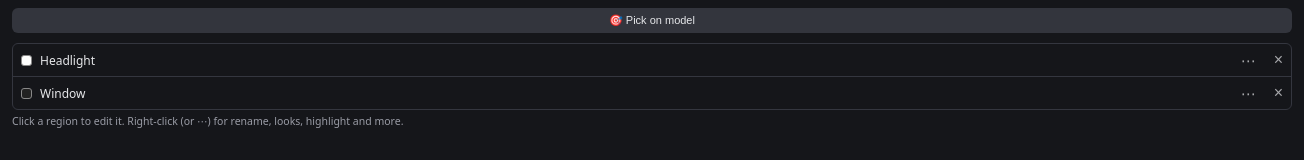
Test: Paint regions list › renaming through the row saves one change and keeps the look
Double-click the text "Window" at (63, 93), box [40,84,86,102]
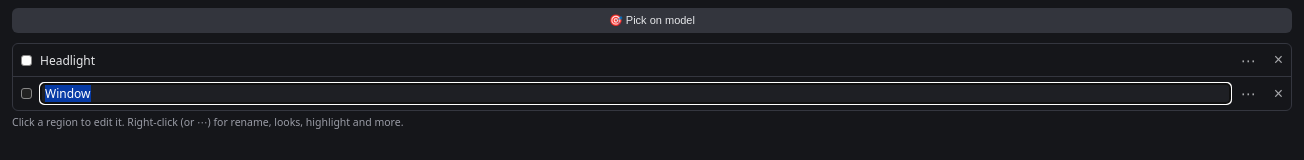
Replace the text in the field named "Name" with "Windscreen" at (635, 94), box [40,83,1231,104]
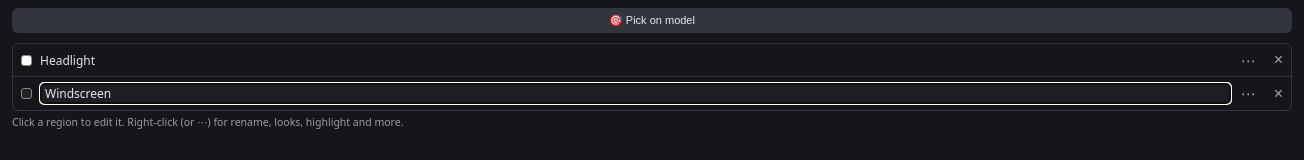
Press Enter in the field named "Name", box [40,83,1231,104]
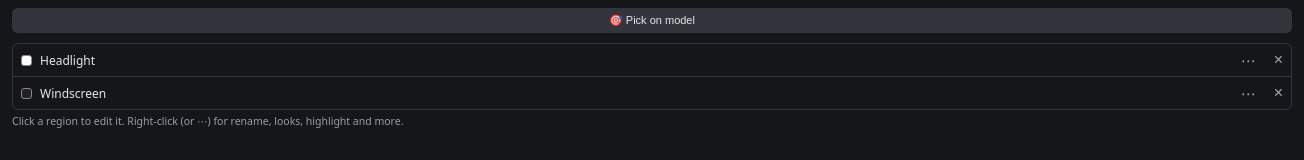
Expected: the text "Windscreen" is shown, [40,84,106,102]
